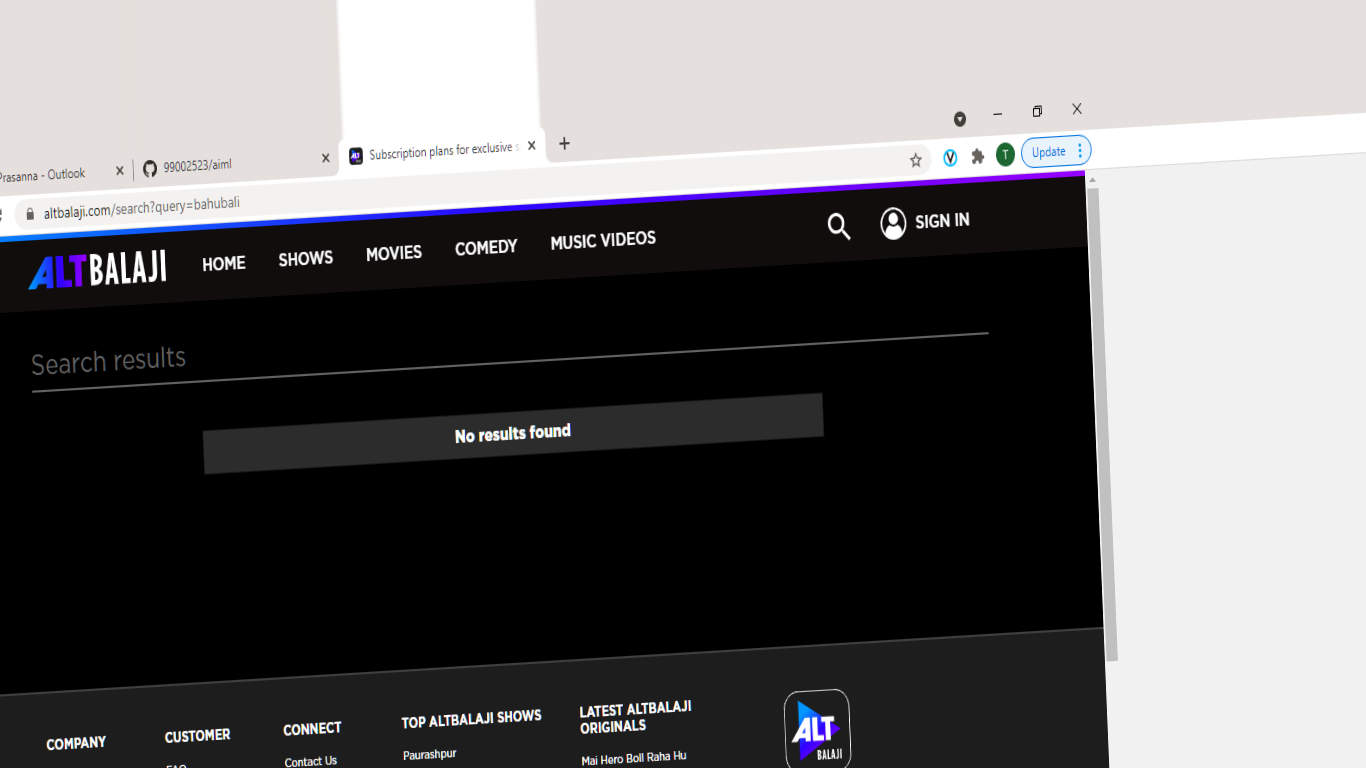noresultsfound: (177, 397, 857, 478)
profileicon: (875, 194, 1001, 251)
searchicon: (807, 200, 871, 248)
searchtextbox: (25, 285, 1001, 392)
